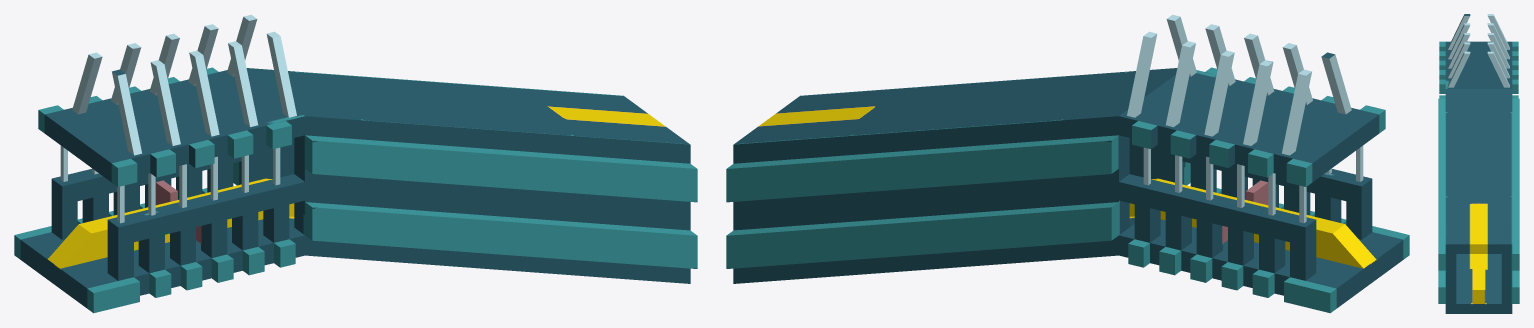
The model's file is subway_entrance.glb.
3 views of the same model, side by side, from view 1: azimuth 30°, elevation 25°; view 2: azimuth 150°, elevation 25°; view 3: azimuth 270°, elevation 25° (orthographic). The views are drawn at different scales.
Parts seen in each view (by area): view 1: entrance; view 2: entrance; view 3: entrance.
Boxes of the visible parts, x1,y1,x2,y2 form: entrance: [14, 14, 697, 313]; entrance: [726, 14, 1409, 313]; entrance: [1438, 14, 1519, 313].
Size of what is drawn, in the model's own units: 62.61 by 32.69 by 14.61.
Materials: 1 (1 with a texture image).
